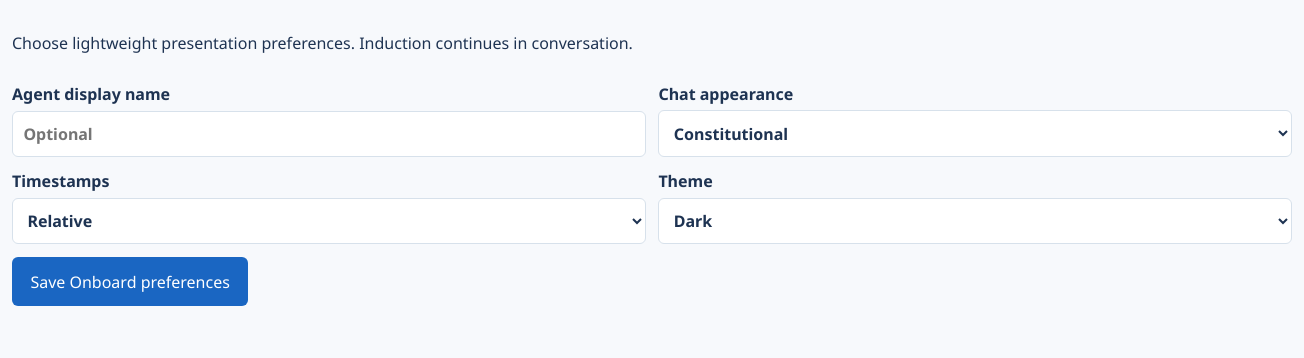
Test case: WC084 portal editors › persists only the lightweight Onboard preferences
Expected: the dropdown labelled "Theme" shows "Dark", [658,198,1292,244]
Type "Mira" into the field labelled "Agent display name" at (329, 134), box [12,111,646,157]
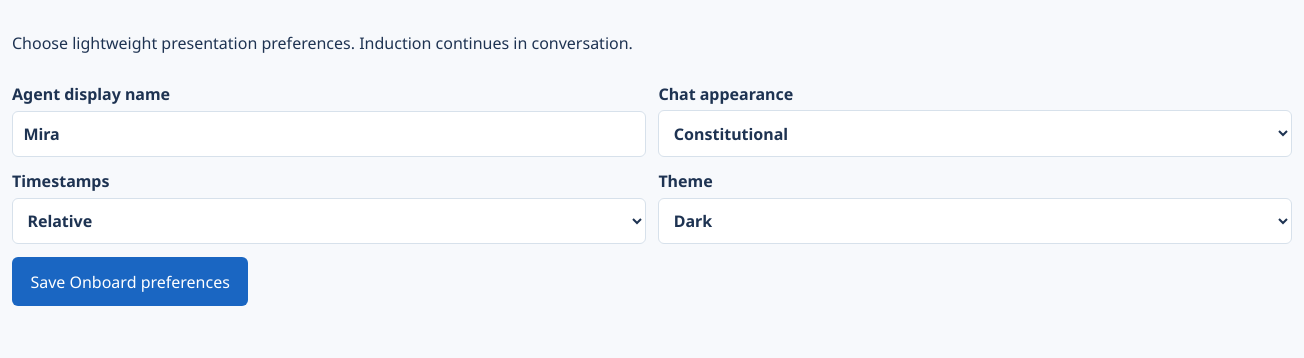
Submit the form named "Save Onboard preferences"
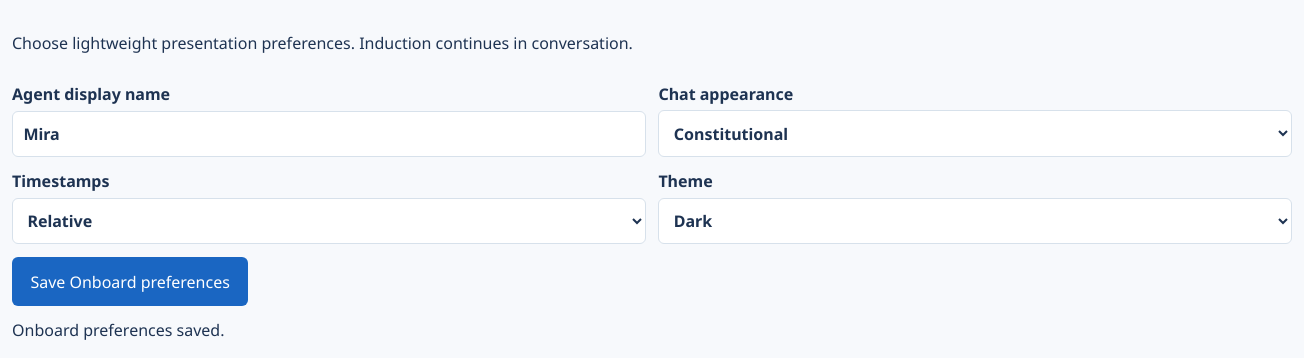
Expected: the text "Onboard preferences saved." is shown, [12,319,224,341]
